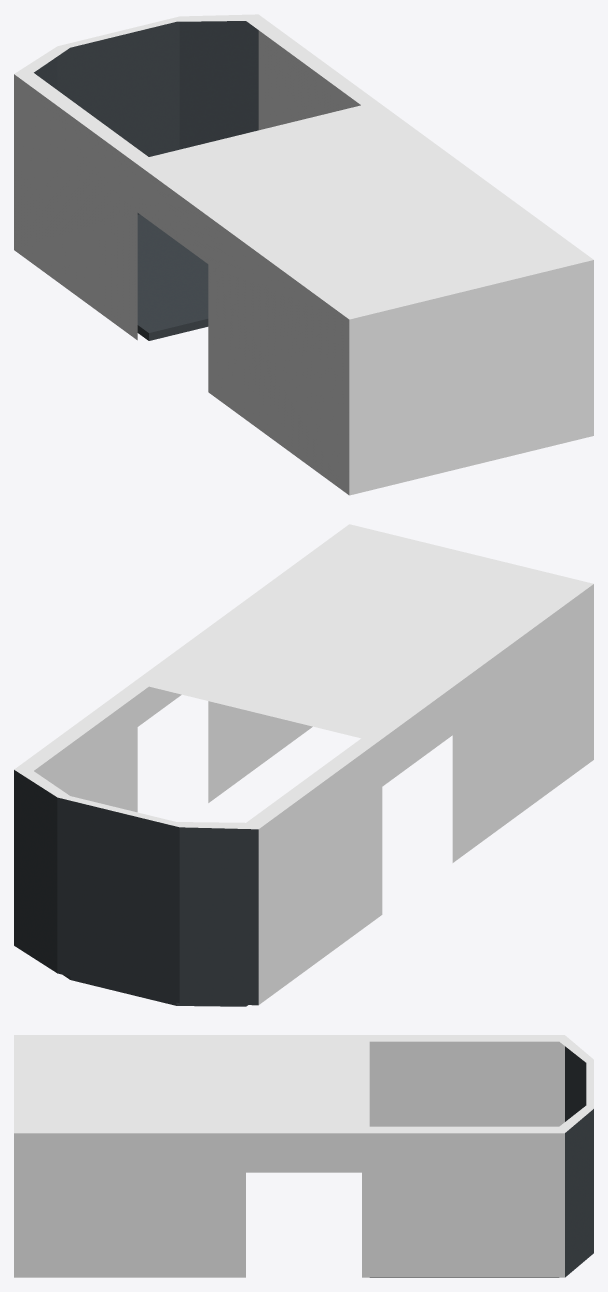
File: Lift_03_Walls_Level_01.fbx
The picture shows the model from 3 angles, top to bottom: view 1: azimuth 30°, elevation 25°; view 2: azimuth 150°, elevation 25°; view 3: azimuth 270°, elevation 25°; orthographic projection. The views are drawn at different scales.
Parts seen in each view (by area): view 1: Lift_03_Walls_Level_01; view 2: Lift_03_Walls_Level_01; view 3: Lift_03_Walls_Level_01.
Boxes of the visible parts, x1=… form: Lift_03_Walls_Level_01: x1=14, y1=14, x2=593, y2=495; Lift_03_Walls_Level_01: x1=14, y1=524, x2=593, y2=1006; Lift_03_Walls_Level_01: x1=14, y1=1035, x2=593, y2=1277.
Size of the model in its own units: 1600 by 1150 by 4000.
